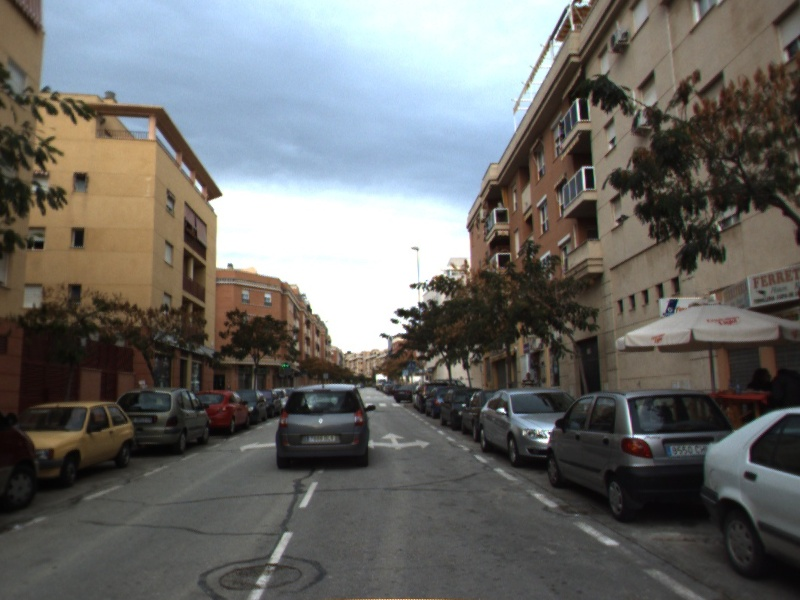STRAIGHT_LEFT_RIGHT: (368, 430, 433, 452)
